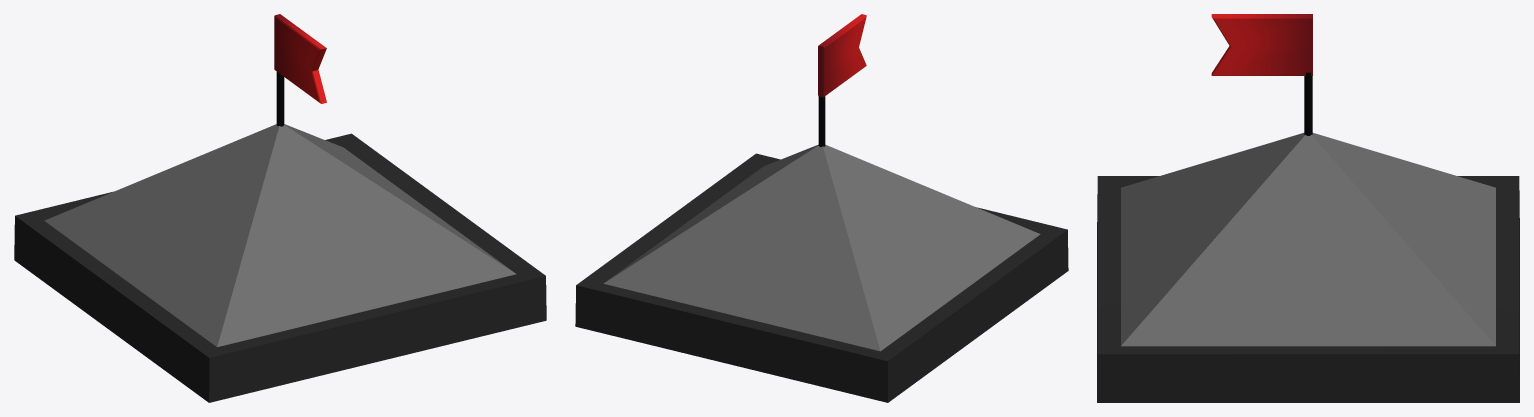
Rendered from Toit.fbx.
3 views of the same model, side by side, from view 1: azimuth 30°, elevation 25°; view 2: azimuth 150°, elevation 25°; view 3: azimuth 270°, elevation 25° (orthographic). The views are drawn at different scales.
Parts seen in each view (by area): view 1: pPlane2; view 2: pPlane2; view 3: pPlane2.
Part boxes in pixels (<box>): pPlane2: <box>14,14,546,402</box>; pPlane2: <box>575,14,1068,402</box>; pPlane2: <box>1097,14,1519,402</box>.
Size of the model in its own units: 6.52 by 5.09 by 6.52.
Materials: 1 (1 with a texture image).
